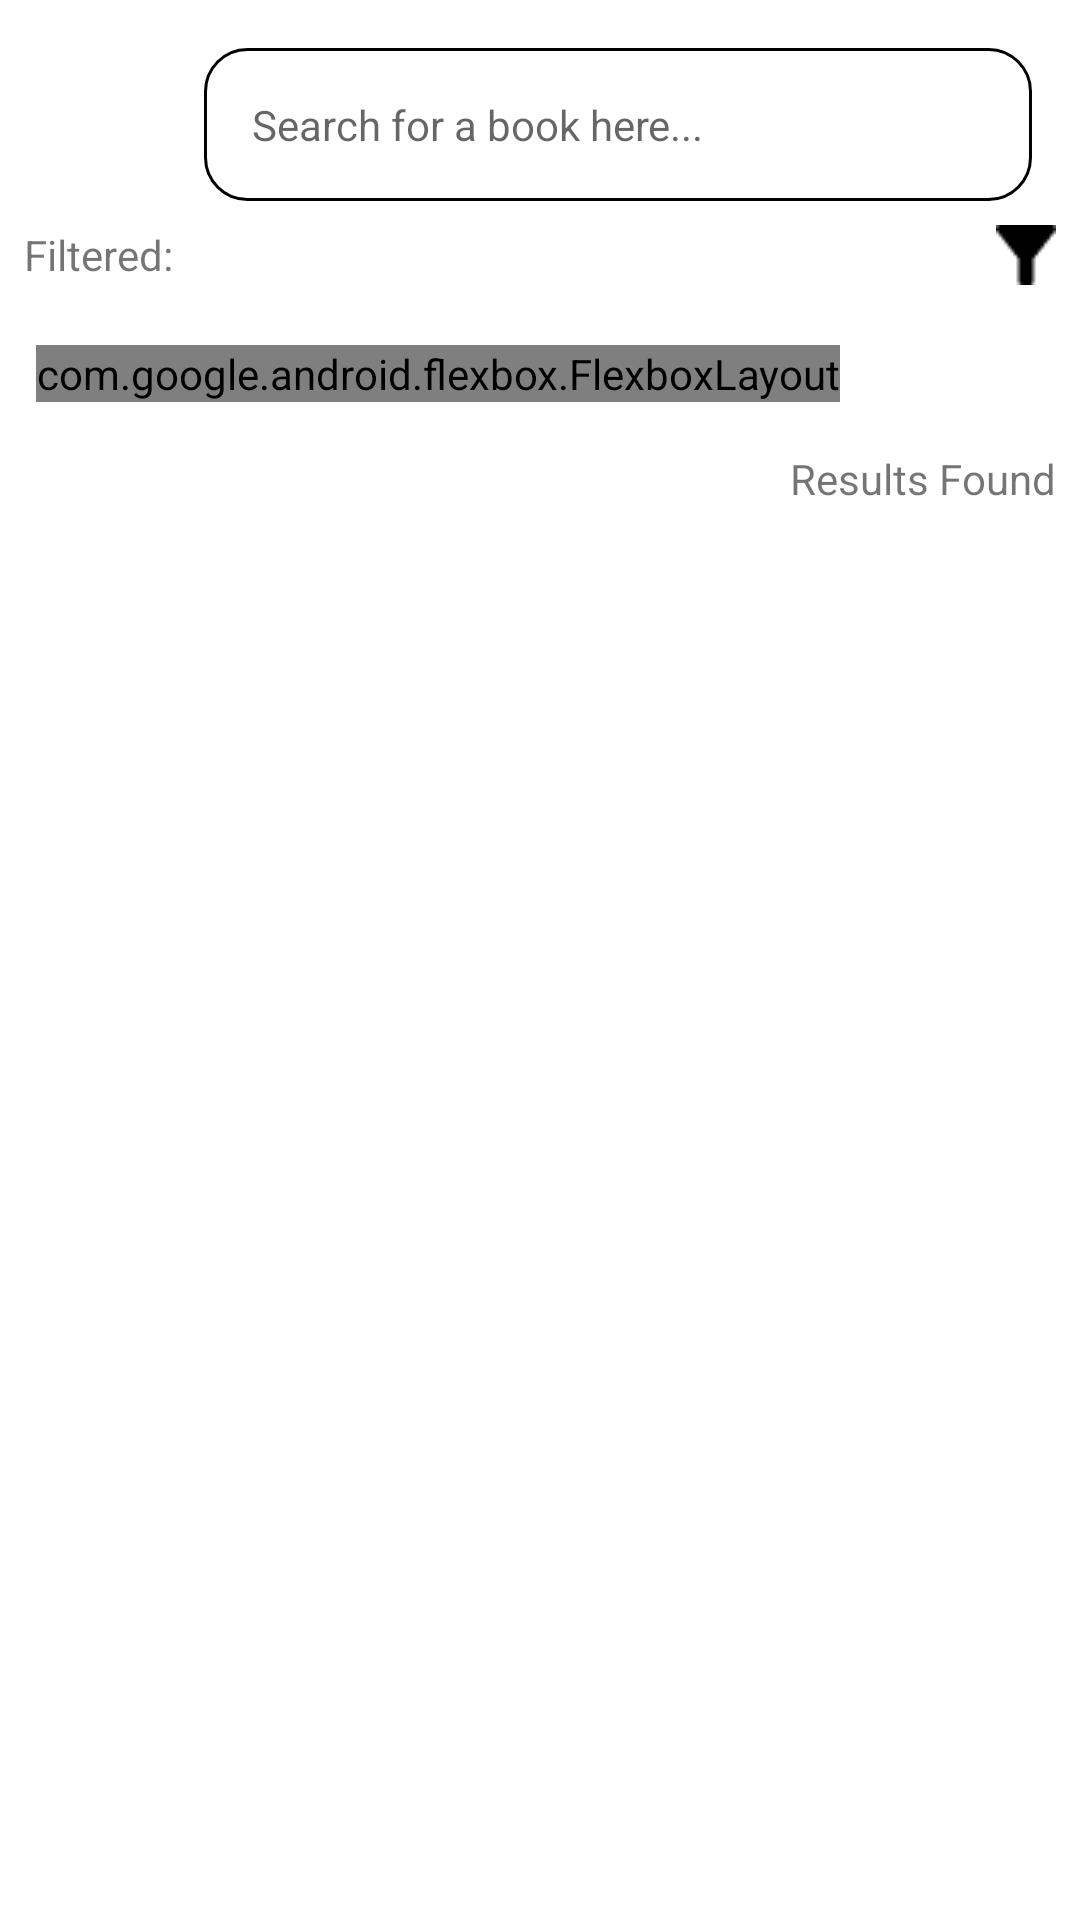

Screen size 1080 × 1920. Icon name, then its center in pixels as (x=x, y=y):
filter: (x=1026, y=255)
